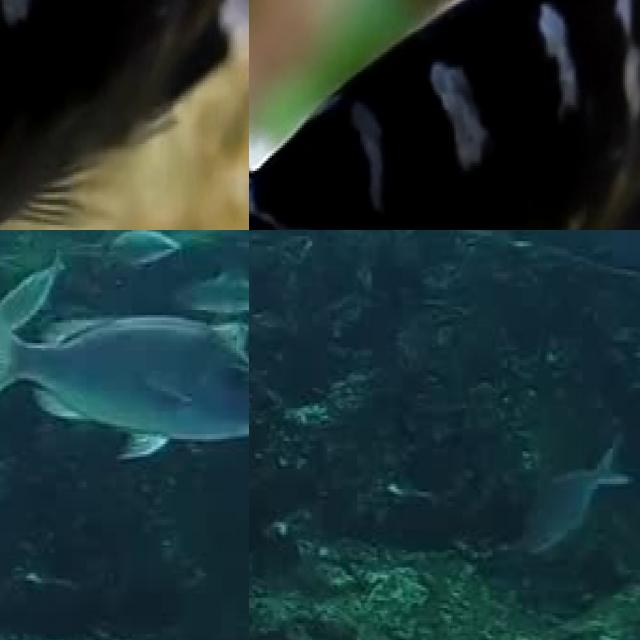fish: (0, 0, 249, 230), (0, 284, 249, 446)
